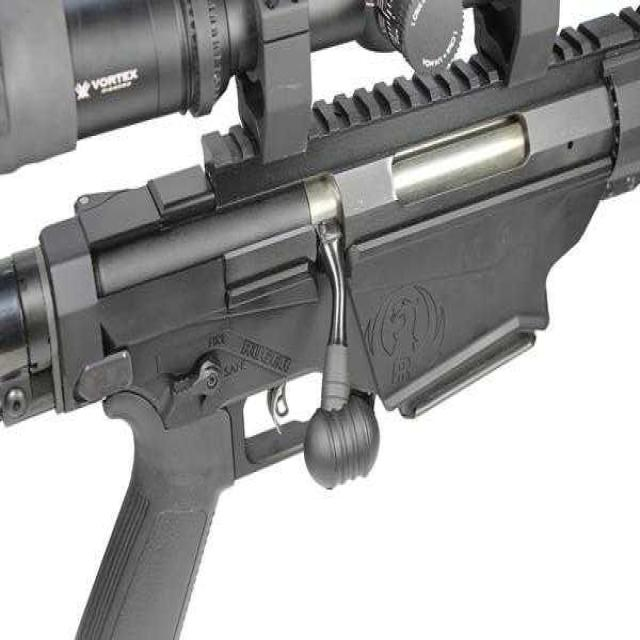heavyweapon: (1, 2, 639, 640)
